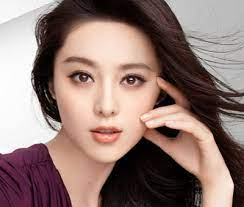person: (37, 2, 169, 166)
